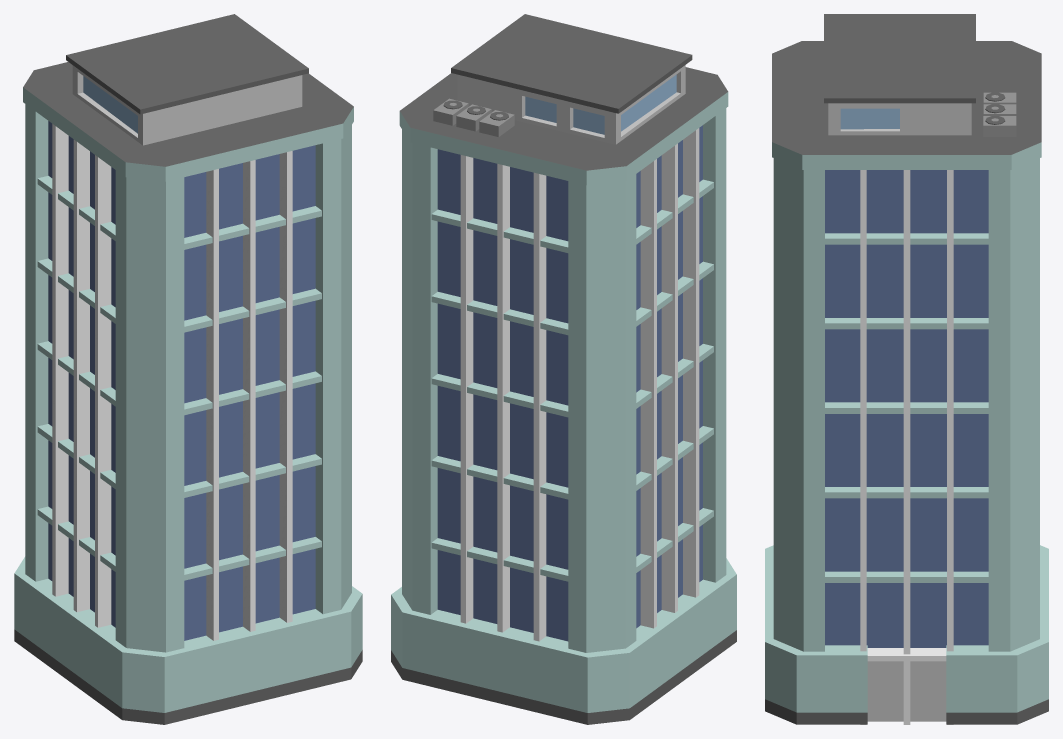
File: house_middle_007.glb
3 renders of one model, left to right at view 1: azimuth 30°, elevation 25°; view 2: azimuth 150°, elevation 25°; view 3: azimuth 270°, elevation 25°, orthographic. The views are drawn at different scales.
Parts seen in each view (by area): view 1: house_middle_007; view 2: house_middle_007; view 3: house_middle_007.
Boxes of the visible parts, x1,y1,x2,y2 form: house_middle_007: (14,14,362,724); house_middle_007: (391,14,736,724); house_middle_007: (765,14,1048,724).
Size of the model in its own units: 7.57 by 17.98 by 7.58.
Materials: 1 (1 with a texture image).
